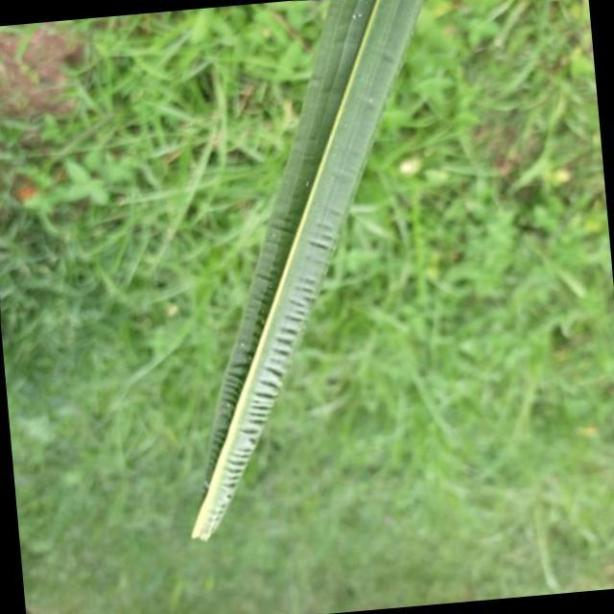Boron: (188, 0, 439, 572)
